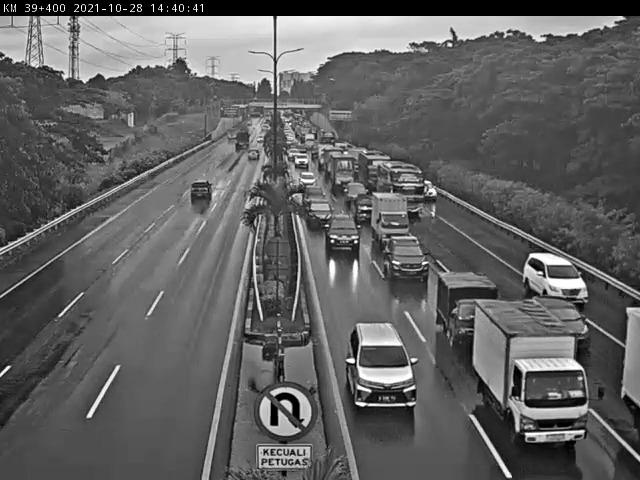big bus: (374, 163, 422, 216)
car: (345, 321, 418, 409), (522, 250, 591, 305), (531, 294, 589, 351), (382, 235, 430, 279), (323, 212, 360, 249), (307, 195, 335, 226), (342, 181, 368, 203), (189, 179, 213, 200), (355, 194, 375, 219), (301, 184, 325, 203)
small truck: (471, 300, 590, 446), (435, 273, 500, 346), (371, 193, 410, 245)
